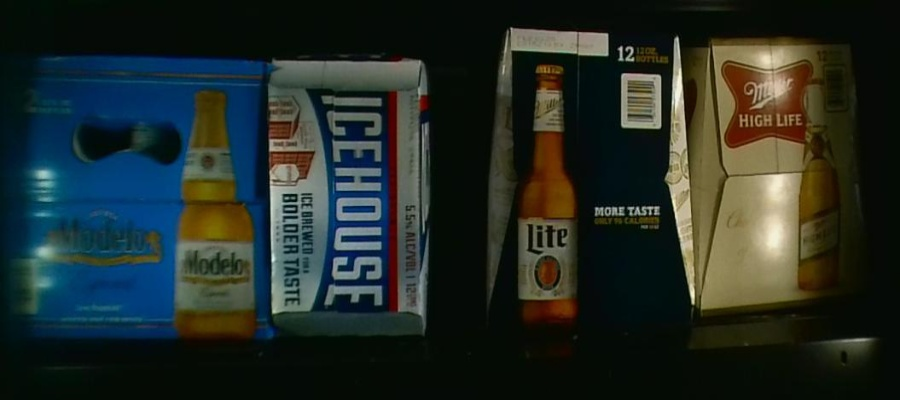bottle: (1, 57, 271, 342), (490, 28, 694, 341), (693, 35, 872, 313), (268, 56, 431, 335)
